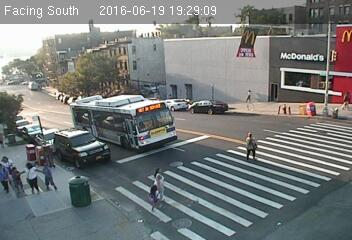neg: (232, 188, 253, 215), (74, 170, 92, 194), (304, 99, 322, 122), (323, 84, 340, 107), (288, 161, 304, 183), (75, 56, 91, 77), (166, 82, 182, 102), (137, 99, 152, 120), (282, 98, 297, 118), (290, 41, 305, 61), (97, 86, 112, 106), (241, 30, 256, 49), (38, 127, 53, 146), (24, 32, 39, 51), (33, 73, 47, 93), (152, 50, 166, 68), (64, 88, 77, 107), (200, 46, 213, 63), (80, 142, 92, 156)
pos: (239, 129, 263, 161), (21, 160, 44, 190), (7, 164, 28, 193), (37, 162, 58, 190), (144, 186, 163, 210), (150, 167, 168, 190), (243, 85, 257, 103)
